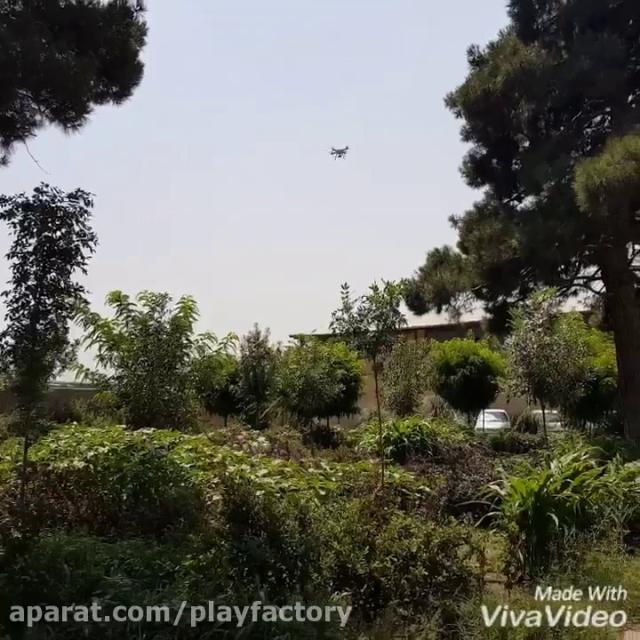drone: (324, 137, 356, 163)
